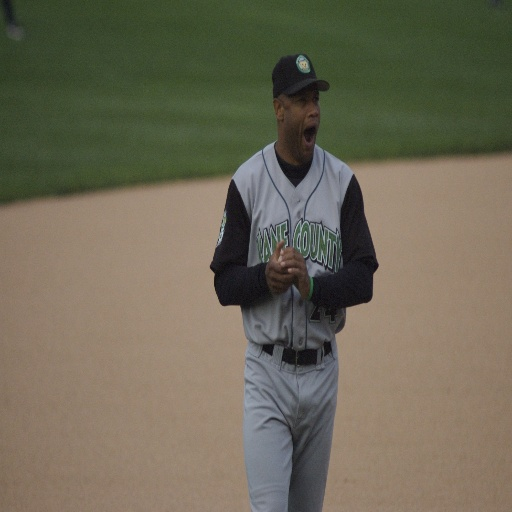hand: (278, 243, 311, 302), (264, 240, 296, 297)
